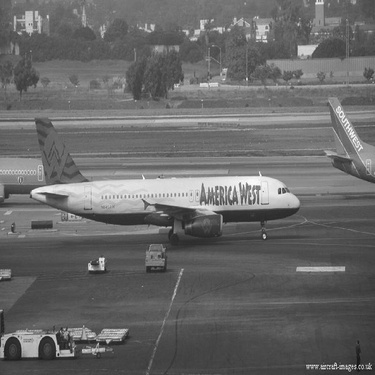airplane: (25, 109, 303, 233), (312, 86, 373, 192)
car: (138, 239, 170, 276)
